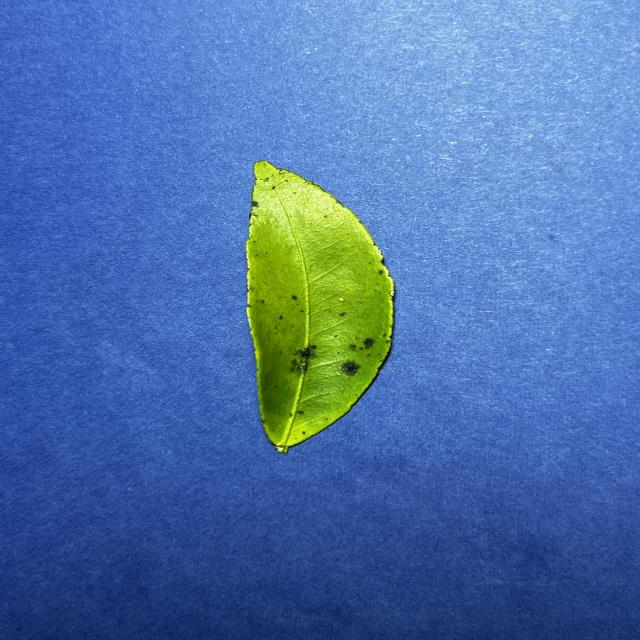sooty_mold: (246, 161, 394, 452)
